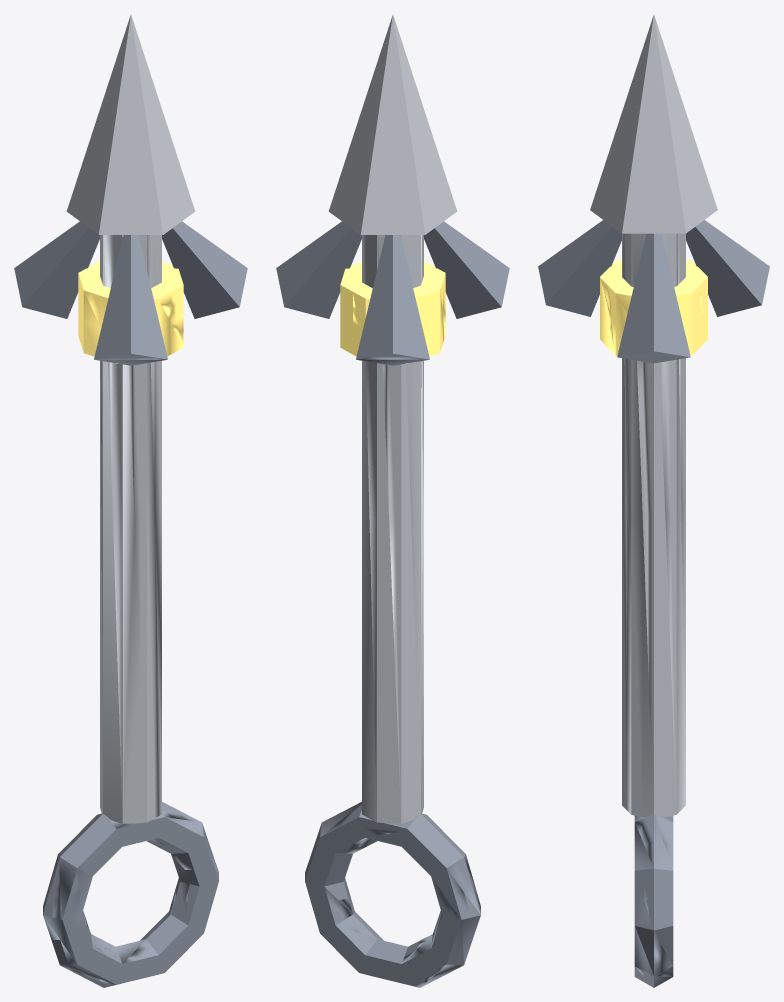
The model's file is harpoon.glb.
3 views of the same model, side by side, from view 1: azimuth 30°, elevation 25°; view 2: azimuth 150°, elevation 25°; view 3: azimuth 270°, elevation 25° (orthographic).
Visible parts, largest first — view 1: PangHarpoonEye; view 2: PangHarpoonEye; view 3: PangHarpoonEye.
Boxes of the visible parts, <box> form: PangHarpoonEye: <box>14,15,247,987</box>; PangHarpoonEye: <box>276,15,509,987</box>; PangHarpoonEye: <box>538,15,769,987</box>.
Bounding box in the file's own units: 0.4772 × 2.15 × 0.4715.
